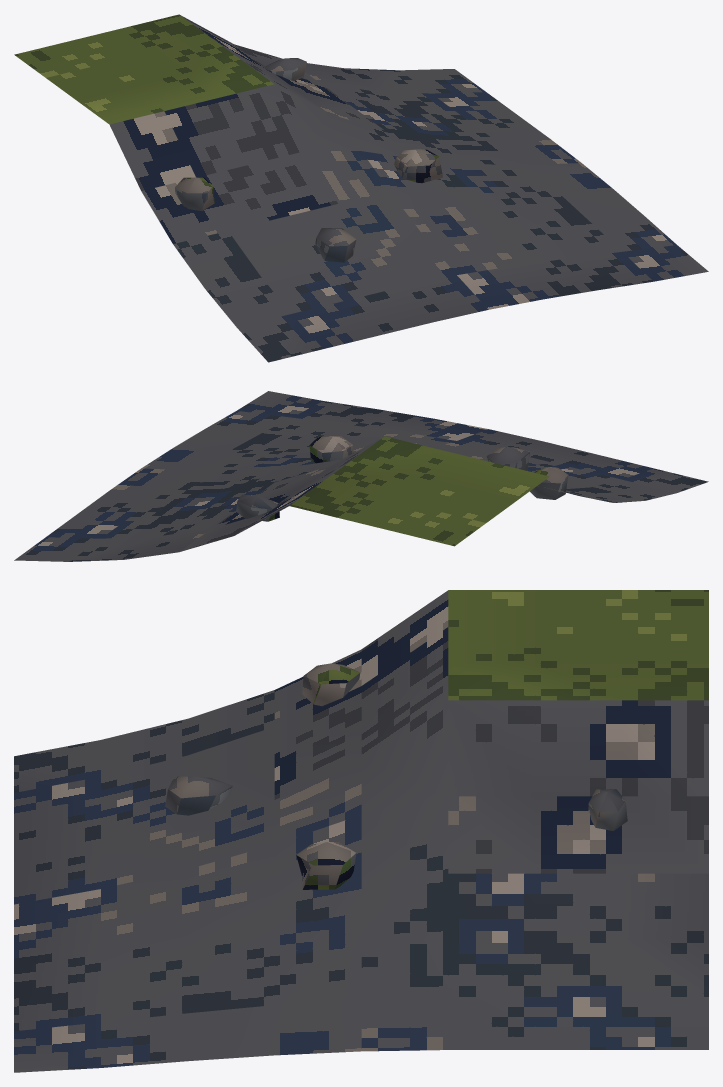
The model's file is lake.shore__corner_out.glb.
The picture shows the model from 3 angles, top to bottom: view 1: azimuth 30°, elevation 25°; view 2: azimuth 150°, elevation 25°; view 3: azimuth 270°, elevation 25°; orthographic projection. The views are drawn at different scales.
Visible parts, largest first — view 1: kit_shell_bank, kit_stones; view 2: kit_shell_bank, kit_stones; view 3: kit_shell_bank, kit_stones.
Part boxes in pixels (x1,y1,x2,y2): kit_shell_bank: (14, 14, 708, 362); kit_stones: (175, 58, 442, 262); kit_shell_bank: (14, 391, 708, 561); kit_stones: (236, 436, 568, 521); kit_shell_bank: (14, 590, 708, 1072); kit_stones: (165, 663, 627, 889).
Bounding box in the file's own units: 4 × 1.2 × 4.
Materials: 4 (4 with a texture image).
